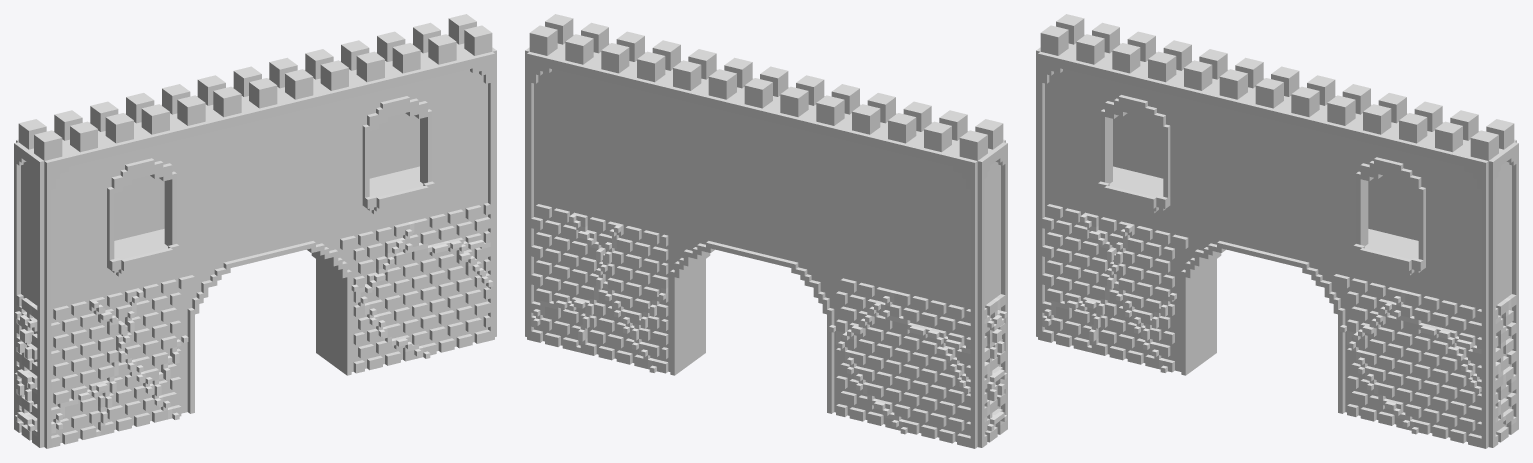
The model's file is gate_wall.obj.
3 views of the same model, side by side, from view 1: azimuth 30°, elevation 25°; view 2: azimuth 150°, elevation 25°; view 3: azimuth 330°, elevation 25° (orthographic).
Parts seen in each view (by area): view 1: wall; view 2: wall; view 3: wall.
Part boxes in pixels (x1,y1,x2,y2): wall: (14,14,496,448); wall: (525,14,1007,448); wall: (1036,14,1518,448).
Size of the model in its own units: 10.3 by 6.5 by 1.5.
1 material, 1 textured.
